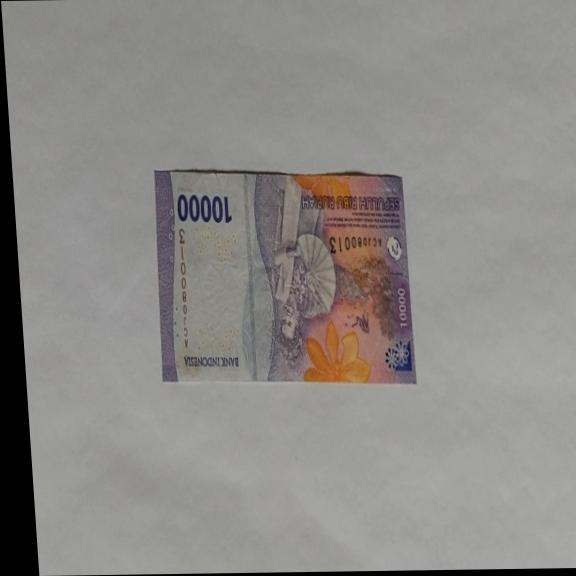Kertas: (148, 166, 416, 388), (174, 191, 233, 226)
